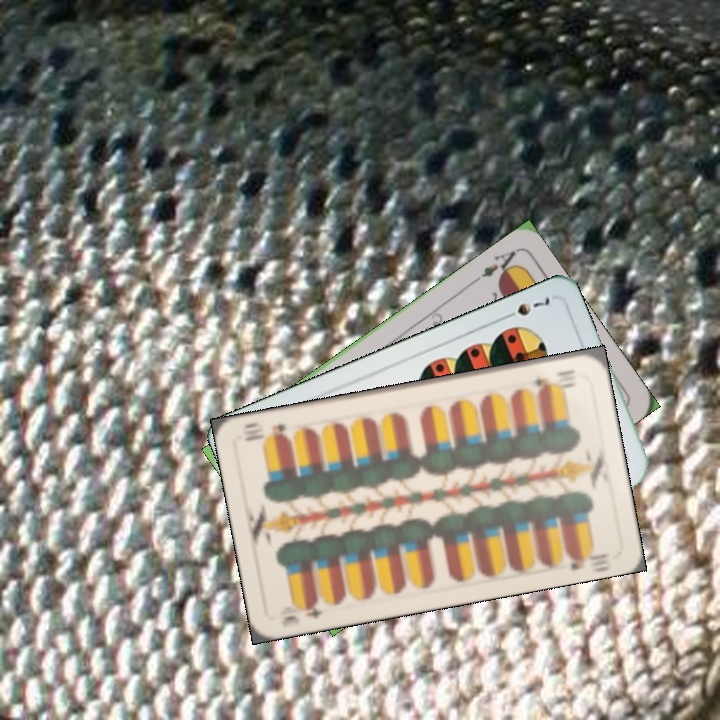E10: (277, 596, 327, 630), (531, 365, 577, 390)
EA: (469, 246, 521, 286)
S7: (498, 293, 553, 322)
